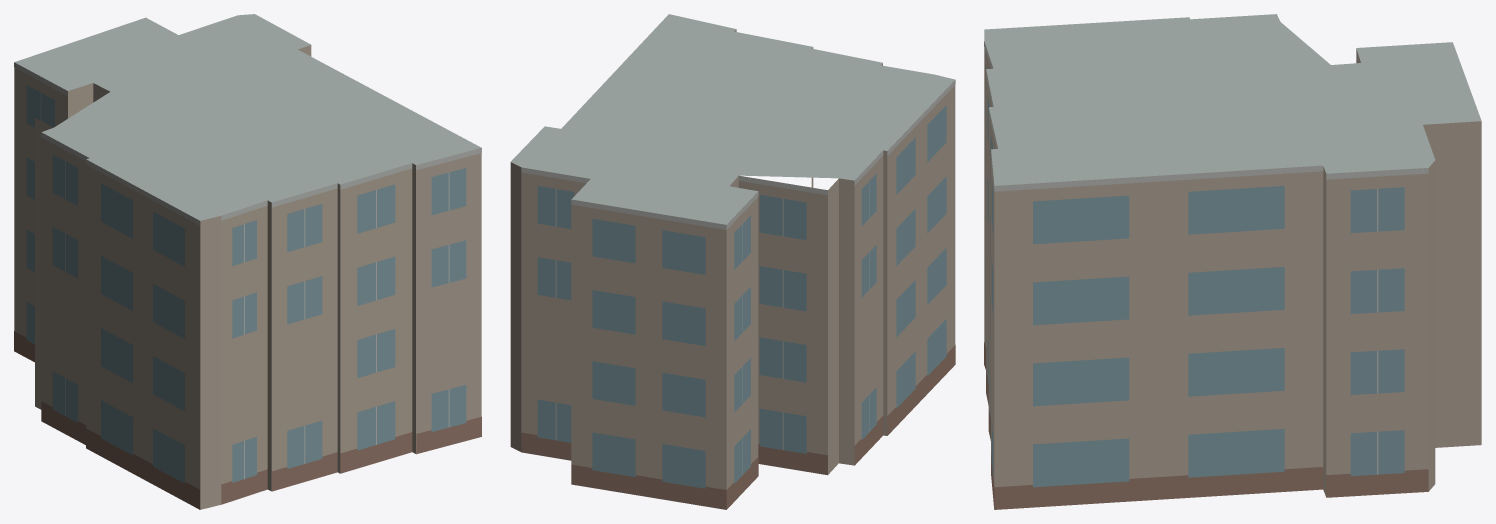
File: survey-upis-32931239.glb
The picture shows the model from 3 angles, left to right: view 1: azimuth 30°, elevation 25°; view 2: azimuth 150°, elevation 25°; view 3: azimuth 270°, elevation 25°; orthographic projection. The views are drawn at different scales.
Parts seen in each view (by area): view 1: survey-upis-32931239.tmp; view 2: survey-upis-32931239.tmp; view 3: survey-upis-32931239.tmp.
Part boxes in pixels (left/top/right/bottom): survey-upis-32931239.tmp: left=14, top=14, right=481, bottom=509; survey-upis-32931239.tmp: left=510, top=14, right=955, bottom=509; survey-upis-32931239.tmp: left=984, top=14, right=1481, bottom=509.
Size of the model in its own units: 15.55 by 13.65 by 19.01.
